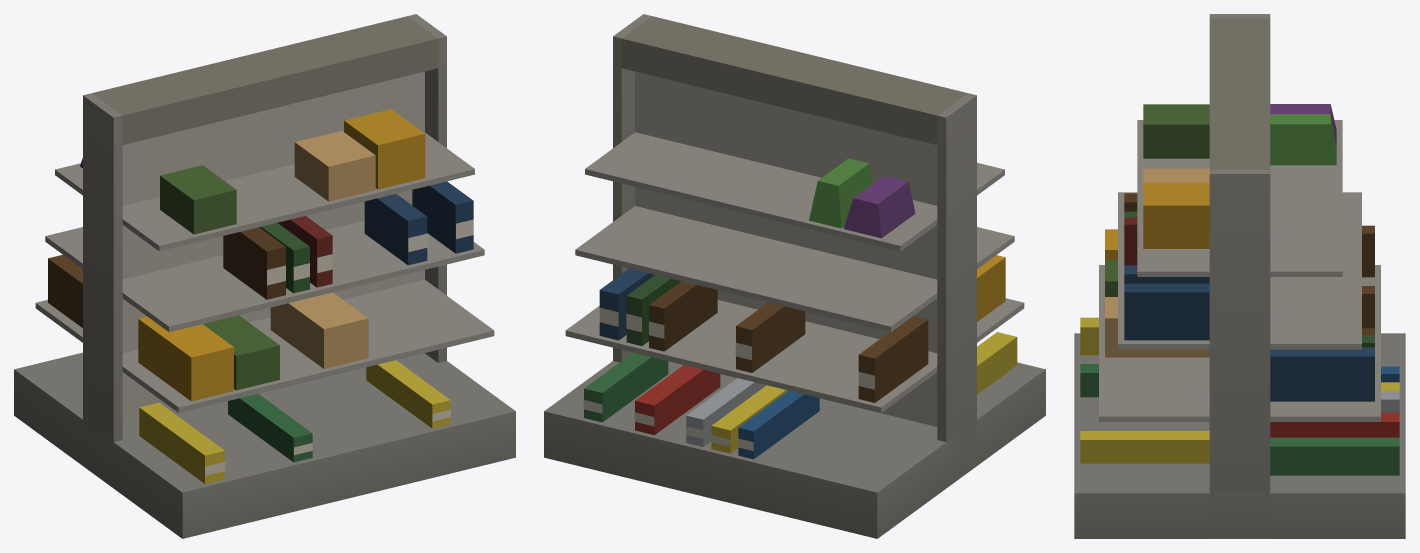
File: shelf.gondola.picked_over.glb
The picture shows the model from 3 angles, left to right: view 1: azimuth 30°, elevation 25°; view 2: azimuth 150°, elevation 25°; view 3: azimuth 270°, elevation 25°; orthographic projection.
Parts seen in each view (by area): view 1: shelf_gondola_picked_over; view 2: shelf_gondola_picked_over; view 3: shelf_gondola_picked_over.
Boxes of the visible parts, box(x1,y1,x2,y2) form: shelf_gondola_picked_over: box(14, 14, 515, 538); shelf_gondola_picked_over: box(544, 14, 1045, 538); shelf_gondola_picked_over: box(1074, 14, 1405, 538).
Size of what is drawn, in the model's own units: 1.88 by 2 by 1.65.
